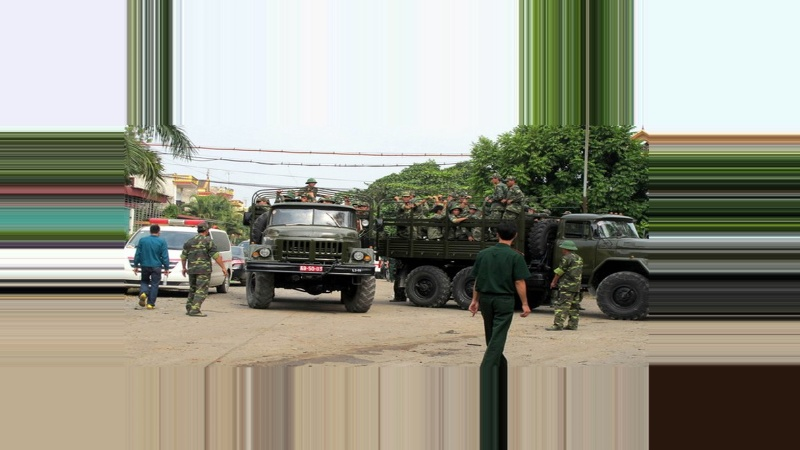plate: (299, 263, 324, 276)
